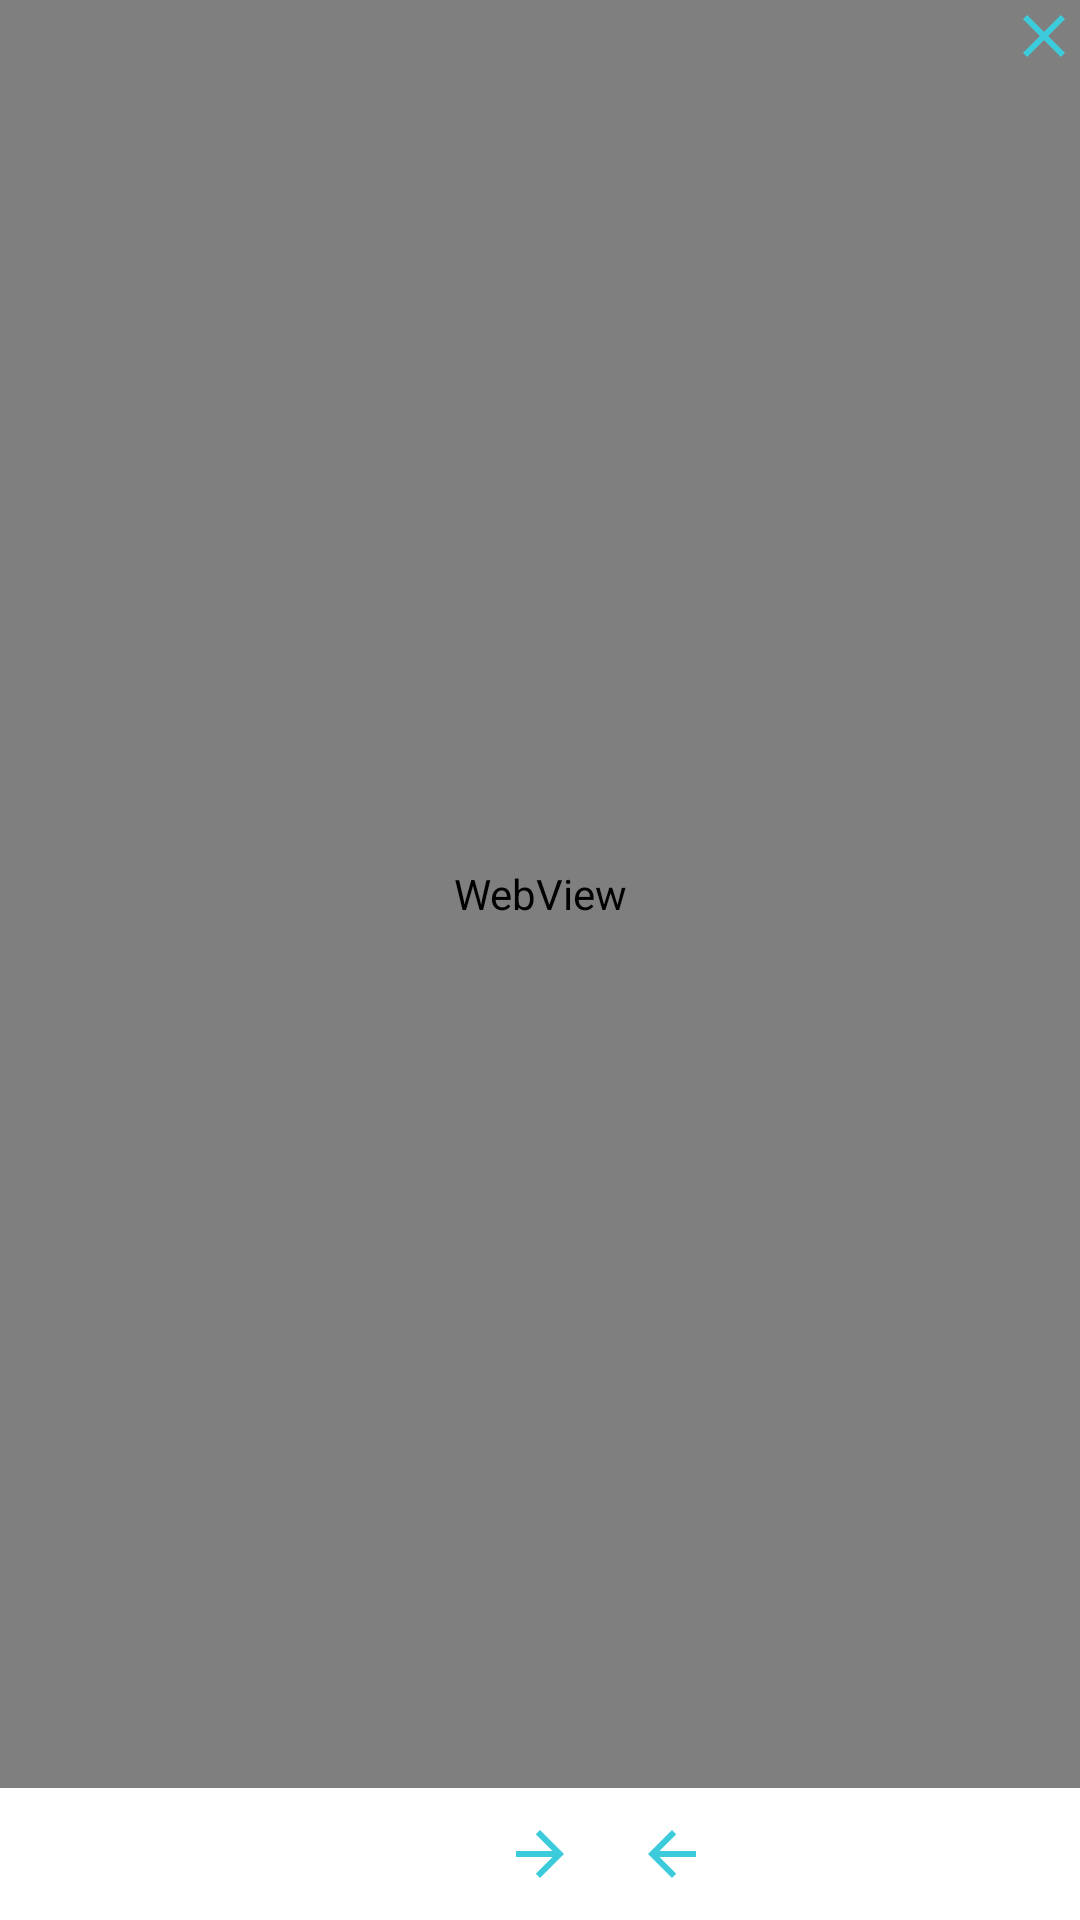

Where icons sit on this 1080px×1920px app screen, as BBox(x1, y1, x2, y2):
arrow back: BBox(648, 1830, 696, 1878)
arrow forward: BBox(516, 1830, 564, 1878)
close: BBox(1023, 15, 1065, 57)
